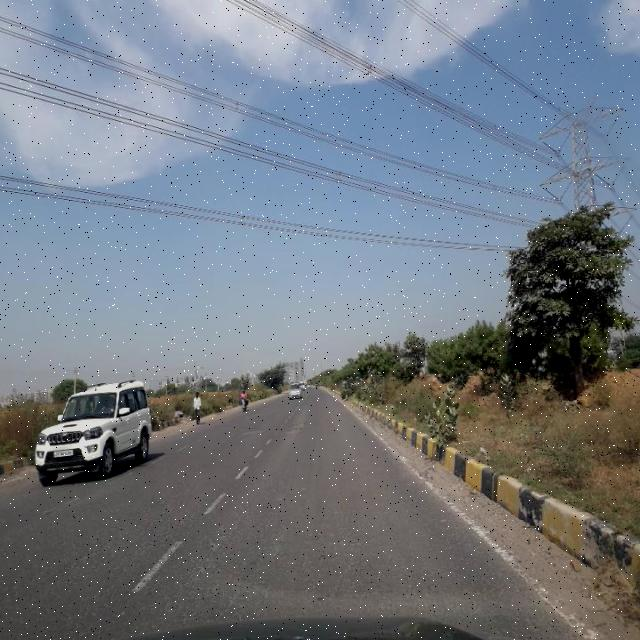D20: (1, 480, 392, 624)
